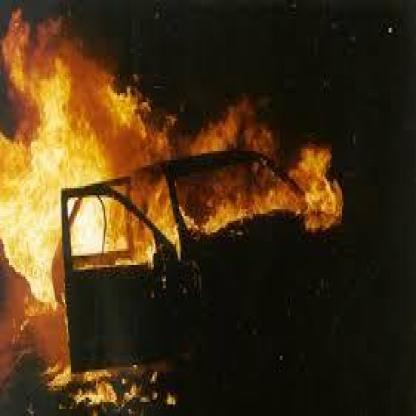fire: (0, 0, 339, 402)
